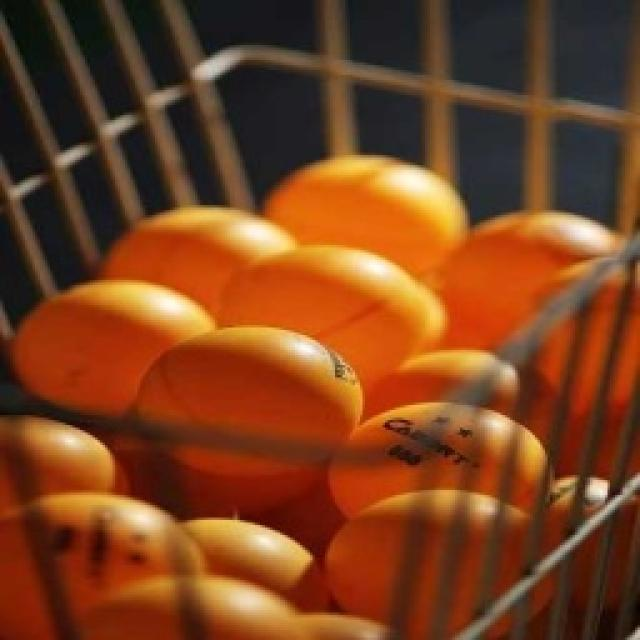oball: (140, 331, 362, 474), (12, 280, 218, 424), (331, 402, 555, 534)
